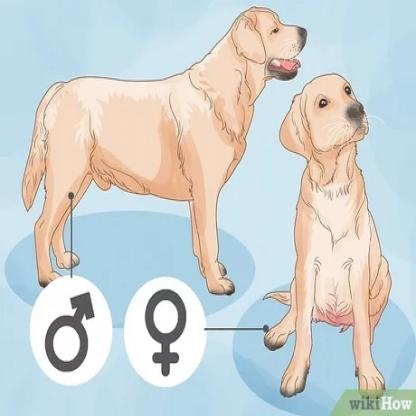dog: (24, 9, 307, 297), (264, 74, 395, 400)
